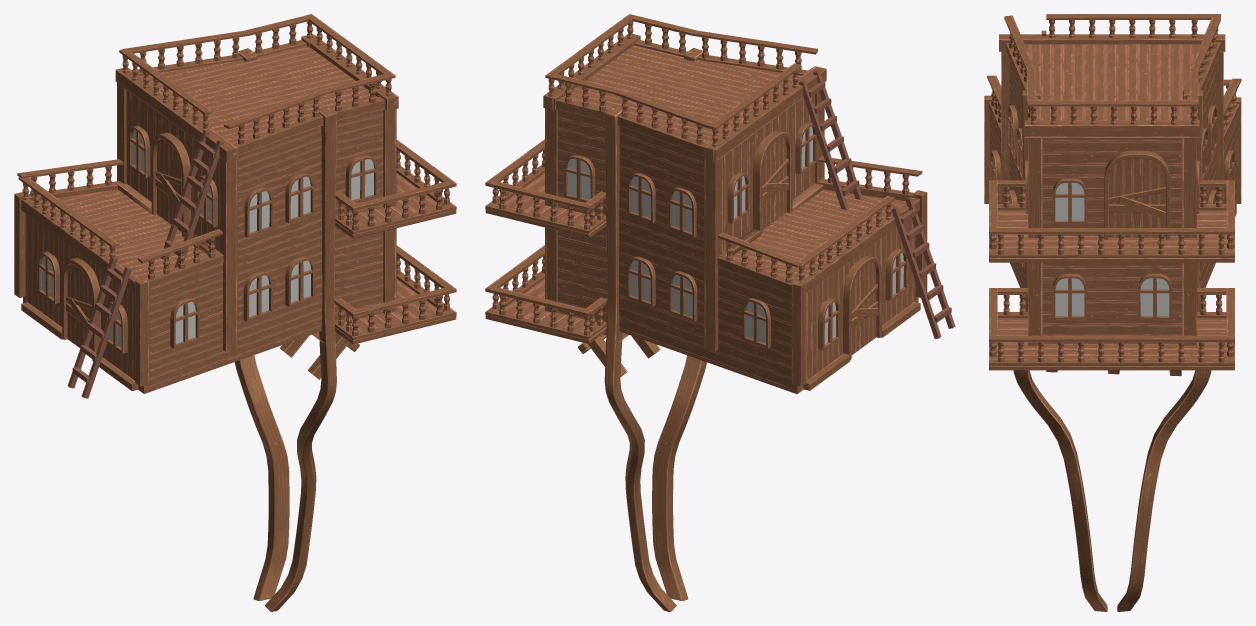
Rendered from SM_Ship_Part_03.fbx.
3 renders of one model, left to right at view 1: azimuth 30°, elevation 25°; view 2: azimuth 150°, elevation 25°; view 3: azimuth 270°, elevation 25°, orthographic.
Visible parts, largest first — view 1: SM_Ship_Part_03_LOD0; view 2: SM_Ship_Part_03_LOD0; view 3: SM_Ship_Part_03_LOD0.
Boxes of the visible parts, x1,y1,x2,y2 form: SM_Ship_Part_03_LOD0: (14, 14, 456, 611); SM_Ship_Part_03_LOD0: (485, 14, 955, 611); SM_Ship_Part_03_LOD0: (984, 14, 1241, 611).
Bounding box in the file's own units: 1083 × 655 × 1544.
Materials: 3 (2 with a texture image).
